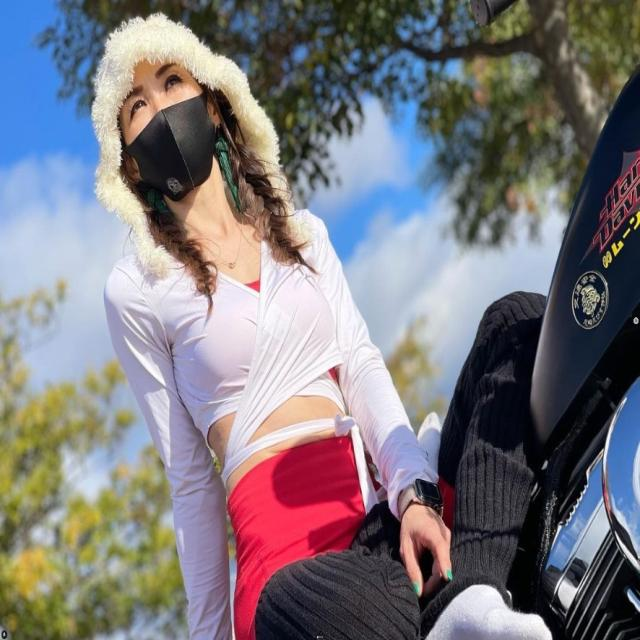illegal_helmet: (84, 5, 250, 216)
